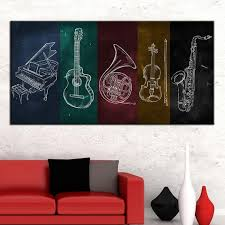Piano: (11, 35, 66, 116)
Saxophone: (173, 28, 225, 151)
Violin: (134, 36, 187, 131)
